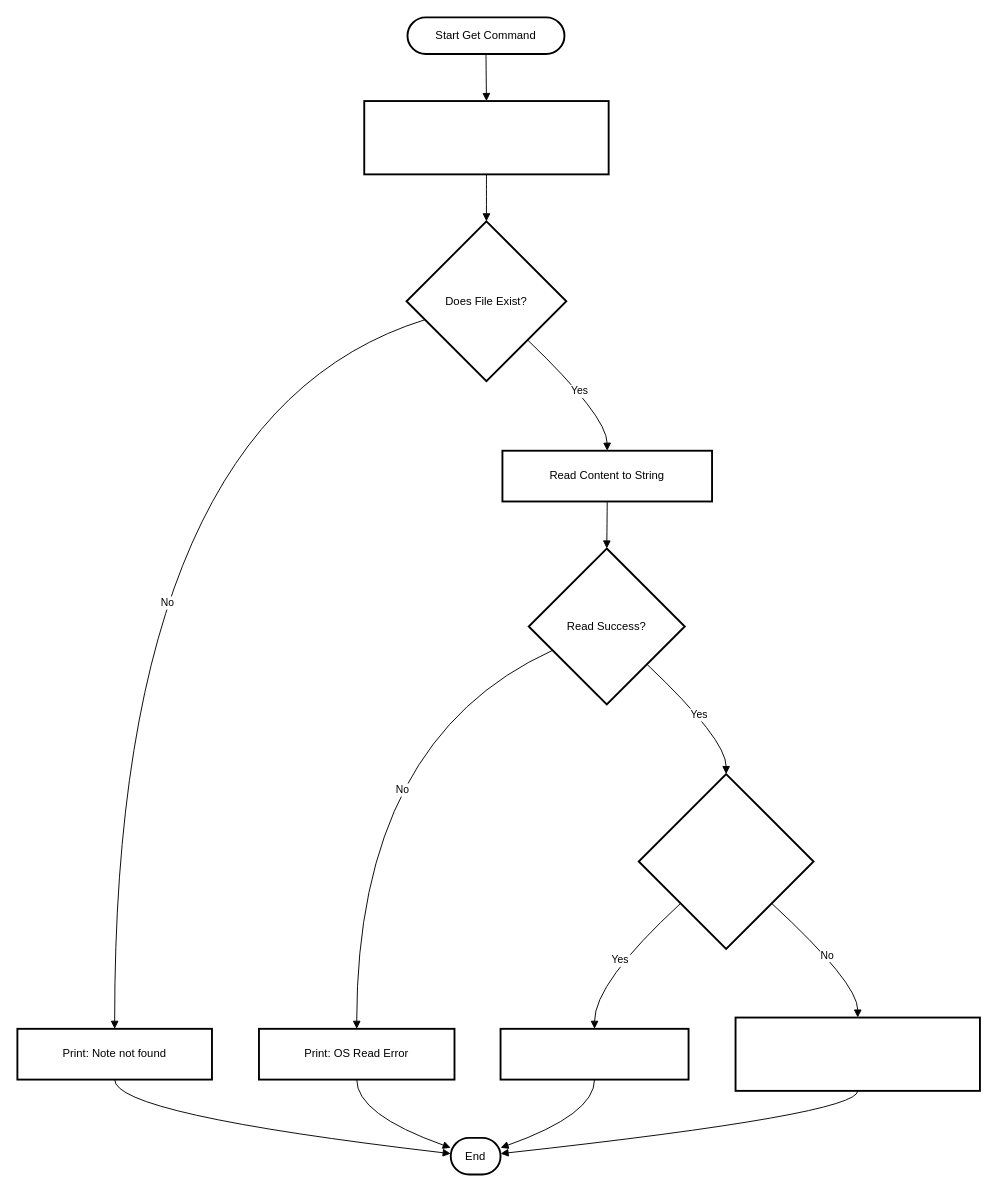
Image size: 996x1191. Some labels were removed from this diagram. The shapes that lost their labels are listed below. From the top down, each one's centre as x and y in pixels, then its label:
At [486,137]: "Resolve Path: .fsk/db/title.md".
At [725,861]: "Is Content Empty?".
At [594,1053]: "Print: Note is empty".
At [857,1053]: "Print Raw Content to Terminal".
